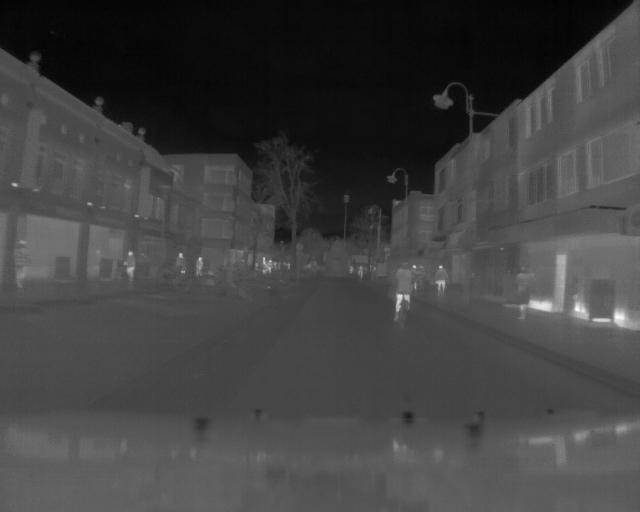person: (392, 259, 414, 330), (514, 263, 534, 324), (434, 258, 450, 301), (122, 248, 137, 287), (175, 249, 189, 271), (195, 254, 204, 273), (356, 264, 363, 281)
